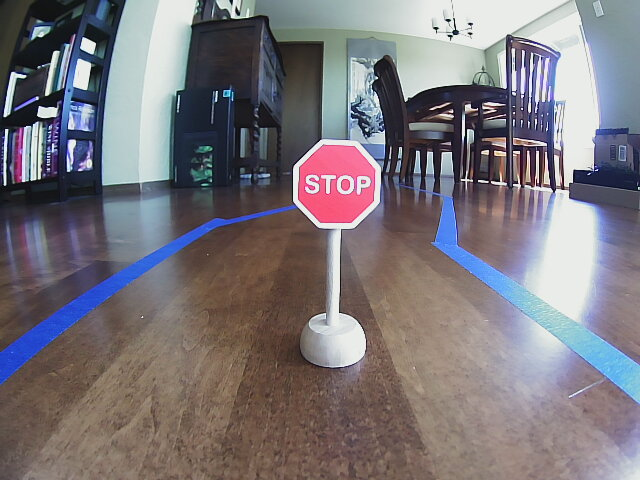StopSign: (292, 136, 380, 233)
